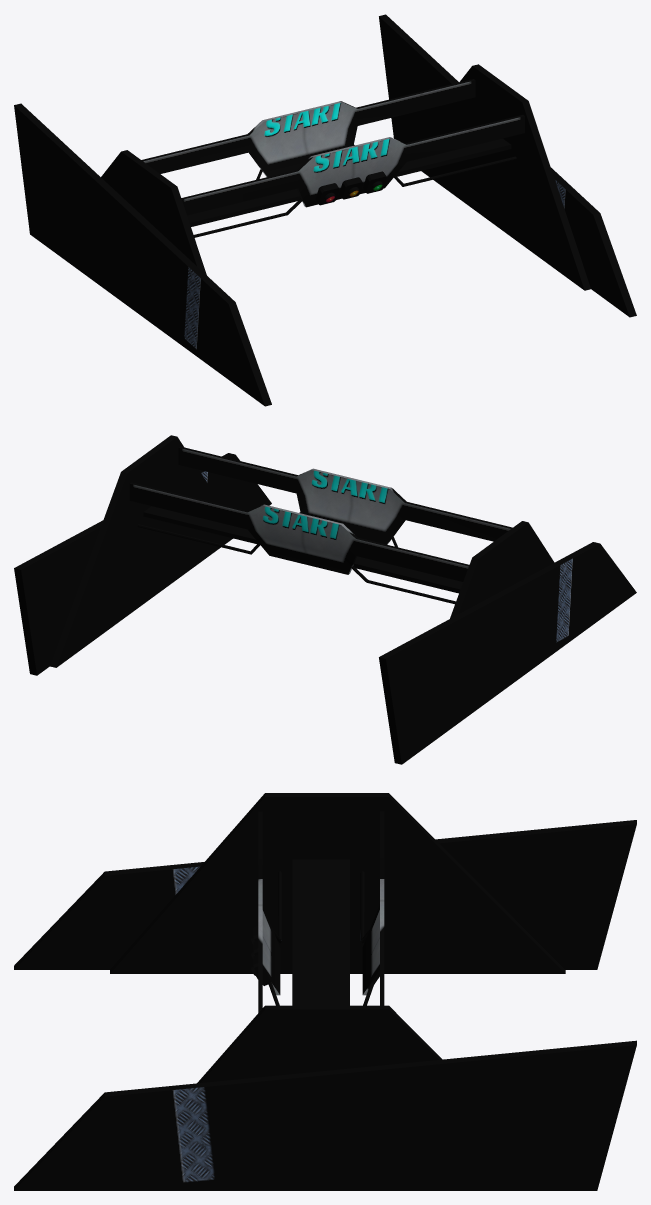
File: Start_Point.FBX
3 renders of one model, top to bottom at view 1: azimuth 30°, elevation 25°; view 2: azimuth 150°, elevation 25°; view 3: azimuth 270°, elevation 25°, orthographic. The views are drawn at different scales.
Parts seen in each view (by area): view 1: Object007; view 2: Object007; view 3: Object007.
Boxes of the visible parts, x1=… form: Object007: x1=14, y1=14, x2=636, y2=406; Object007: x1=14, y1=435, x2=636, y2=764; Object007: x1=14, y1=793, x2=636, y2=1190.
Bounding box in the file's own units: 17.79 × 6.52 × 20.81.
